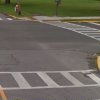crosswalk: (0, 71, 99, 89), (67, 28, 100, 40)
